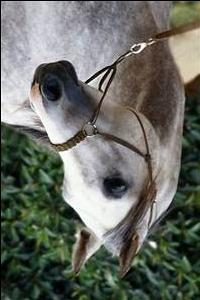horse: (1, 1, 186, 279)
